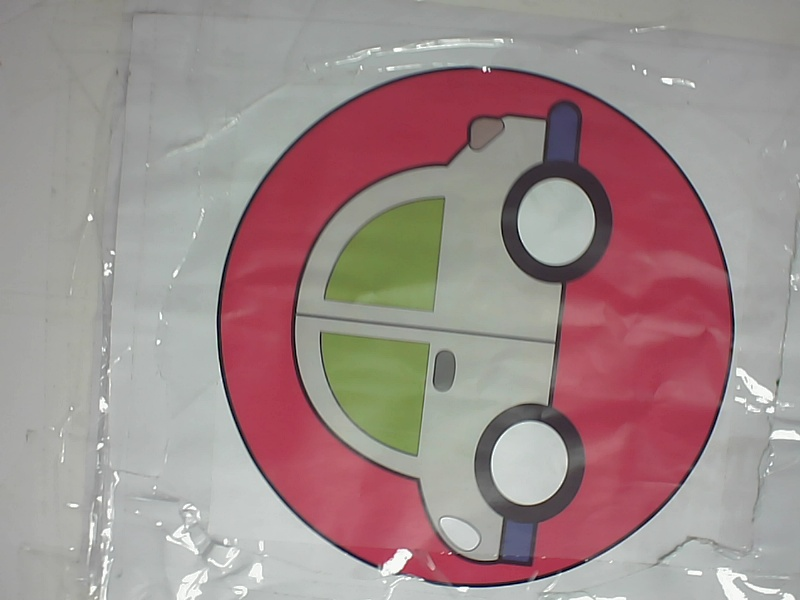areaC: (187, 62, 749, 582)
